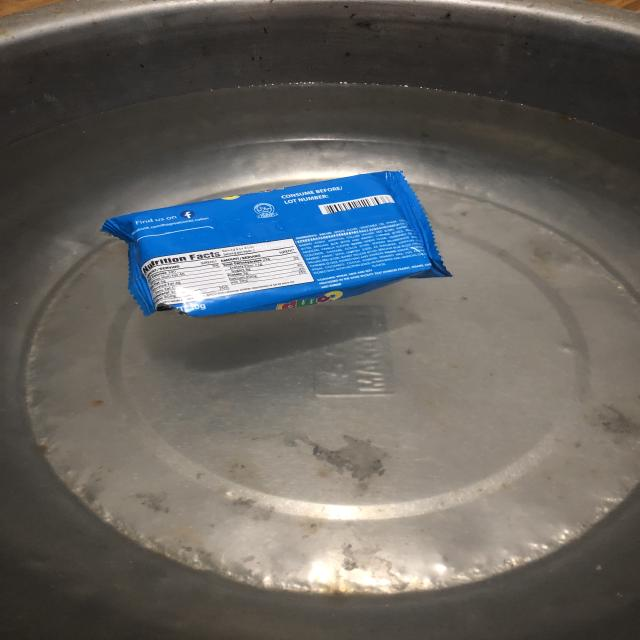Plastic Wrapper: (78, 157, 480, 348)
